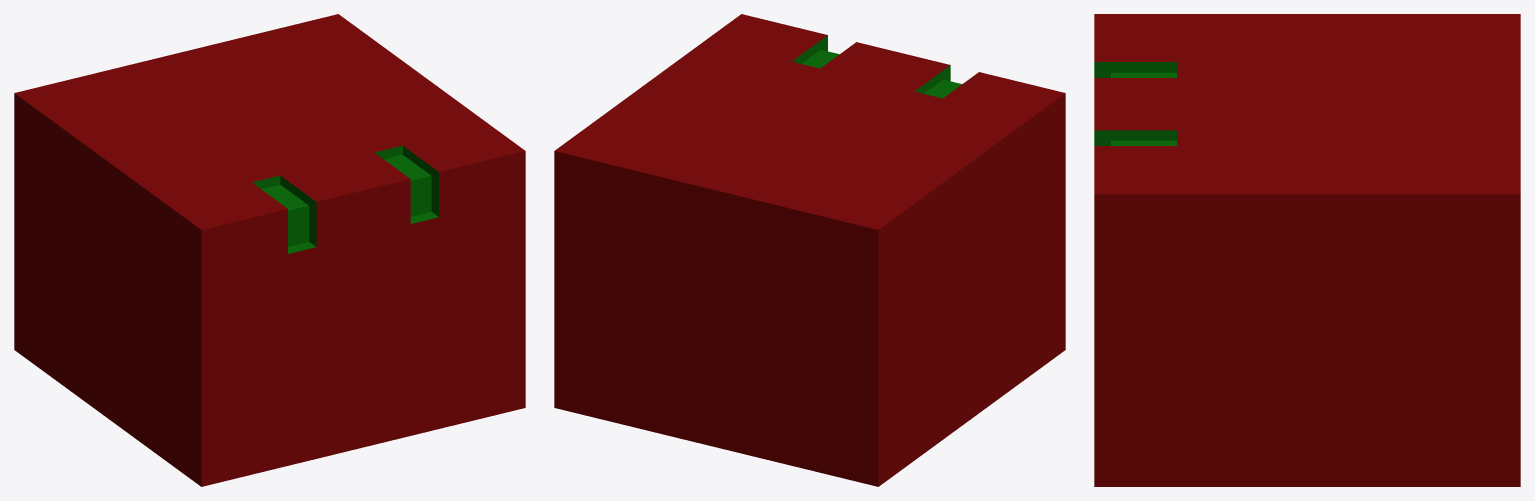
Rendered from TowerLightTop.fbx.
3 views of the same model, side by side, from view 1: azimuth 30°, elevation 25°; view 2: azimuth 150°, elevation 25°; view 3: azimuth 270°, elevation 25° (orthographic). The views are drawn at different scales.
Parts seen in each view (by area): view 1: TowerLightTop; view 2: TowerLightTop; view 3: TowerLightTop.
Part boxes in pixels (box(x1,y1,x2,y2)): TowerLightTop: box(14, 14, 525, 486); TowerLightTop: box(554, 14, 1065, 486); TowerLightTop: box(1094, 14, 1520, 486).
Bounding box in the file's own units: 0.5987 × 0.4535 × 0.5987.
